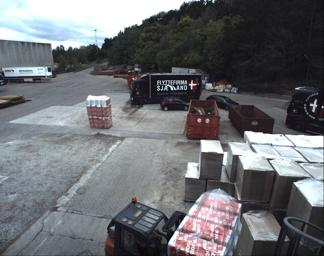rockwool_batts: (163, 192, 241, 255), (86, 94, 113, 129)
